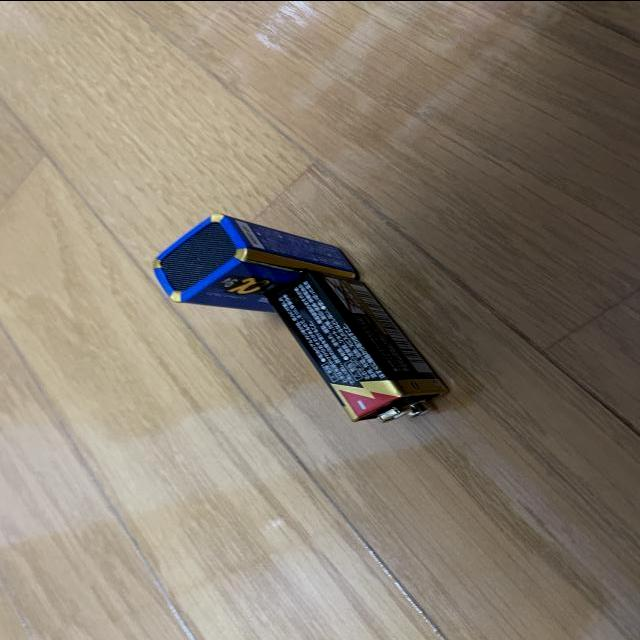9V: (268, 269, 445, 423), (149, 211, 359, 312)
